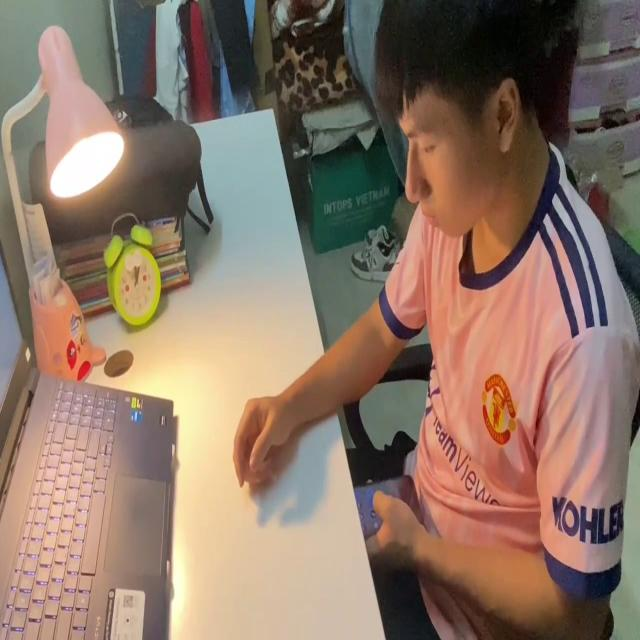laptop: (0, 237, 180, 640)
phone: (351, 469, 427, 548)
student: (230, 0, 640, 640)
